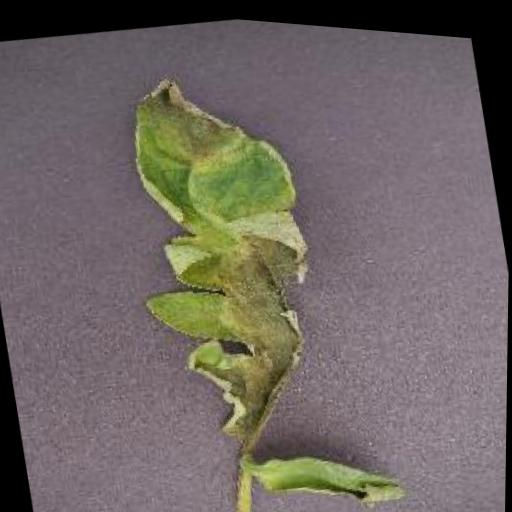Late Blight: (104, 55, 349, 467), (256, 430, 411, 512)
